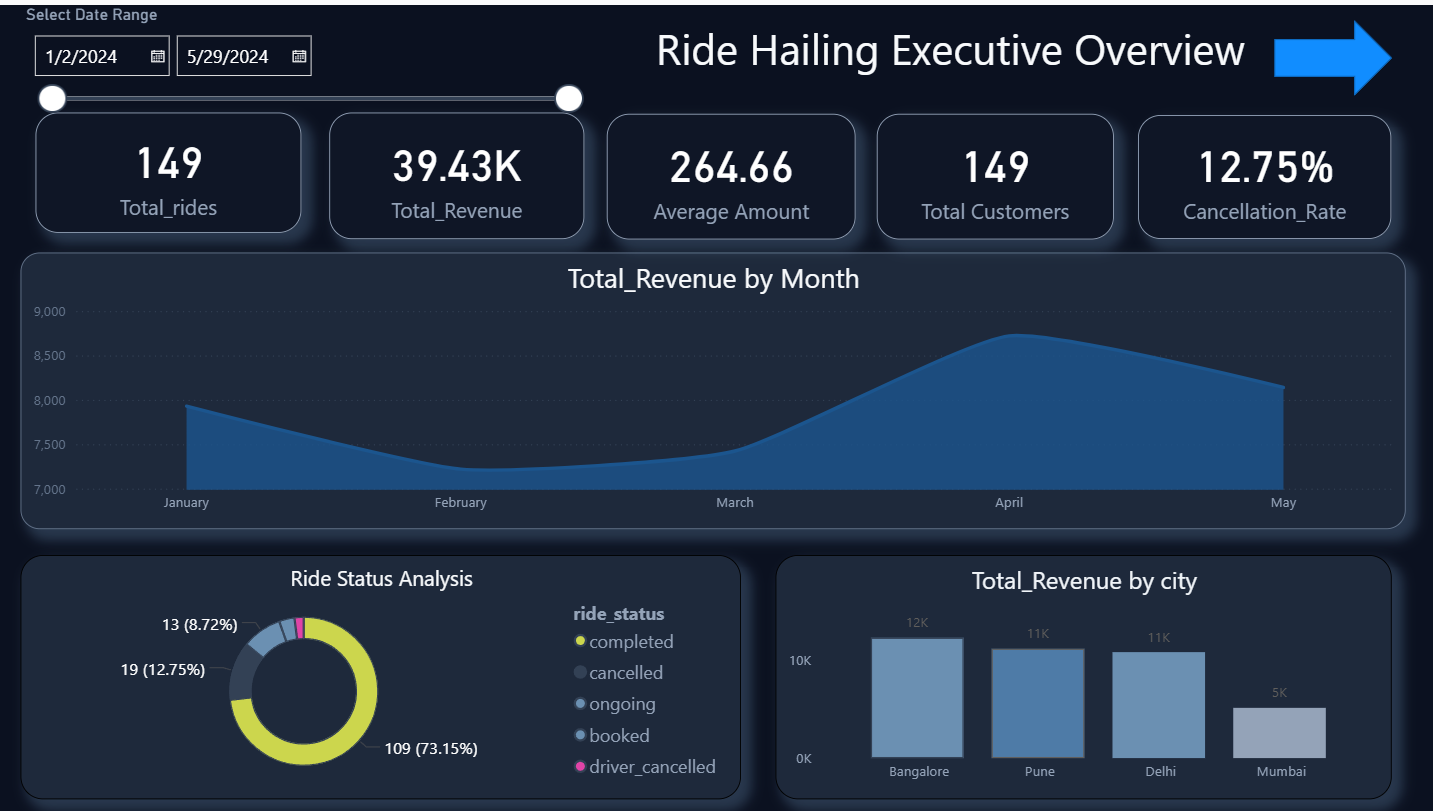

This screenshot's page, from the dashboard's own definition file:
{"tool":"powerbi","page":{"name":"Ride_Hailing-Executive_Overview","canvas":[1280,720],"ordinal":0},"visuals":[{"type":"card","fields":{"Values":["CountNonNull(cab_rides_final.ride_id)"]},"box":[33.6,95.5,236.7,107.6],"z":0},{"type":"card","fields":{"Values":["cab_rides_final.Total_Revenue"]},"box":[294.5,95.5,227.3,113],"z":1000},{"type":"card","fields":{"Values":["cab_rides_final.Cancellation_Rate"]},"box":[1015.3,98.2,225.9,110.3],"z":2000},{"type":"lineChart","fields":{"Y":["cab_rides_final.Total_Revenue"],"Category":["cab_rides_final.payment_date.Variation.Date Hierarchy.Month","cab_rides_final.payment_date.Variation.Date Hierarchy.Day"]},"box":[20.2,220.6,1233.2,246.1],"z":3000},{"type":"columnChart","fields":{"Category":["cab_rides_final.city"],"Y":["cab_rides_final.Total_Revenue"]},"box":[692.6,489.5,548.7,217.9],"z":4000},{"type":"donutChart","title":"Ride Status Analysis","fields":{"Category":["cab_rides_final.ride_status"],"Y":["CountNonNull(cab_rides_final.ride_id)"]},"box":[20.2,489.5,641.5,217.9],"z":5000},{"type":"card","fields":{"Values":["Avg(cab_rides_final.amount)"]},"box":[542,96.8,221.9,111.6],"z":6000},{"type":"card","fields":{"Values":["CountNonNull(cab_rides_final.customer_id)"]},"box":[782.7,96.8,211.1,111.6],"z":7000},{"type":"slicer","title":"Select Date Range","fields":{"Values":["cab_rides_final.payment_date"]},"box":[19.6,0,509.5,111],"z":8000},{"type":"textbox","box":[581.5,8.4,555,72.4],"z":9000},{"type":"shape","box":[1136.5,13.3,105,67.6],"z":10000}]}

Visuals, with their boxes in screenshot pixels (x1, y1, x2, y2), scaled from the page's 1280x720 canvas onto the 1433x811 screenshot:
card - CountNonNull(cab_rides_final.ride_id): rect(38, 108, 303, 229)
card - cab_rides_final.Total_Revenue: rect(330, 108, 584, 235)
card - cab_rides_final.Cancellation_Rate: rect(1137, 111, 1390, 235)
lineChart - cab_rides_final.Total_Revenue x cab_rides_final.payment_date.Variation.Date Hierarchy.Month: rect(23, 248, 1403, 526)
columnChart - cab_rides_final.city x cab_rides_final.Total_Revenue: rect(775, 551, 1390, 797)
"Ride Status Analysis" donutChart: rect(23, 551, 741, 797)
card - Avg(cab_rides_final.amount): rect(607, 109, 855, 235)
card - CountNonNull(cab_rides_final.customer_id): rect(876, 109, 1113, 235)
"Select Date Range" slicer: rect(22, 0, 592, 125)
textbox: rect(651, 9, 1272, 91)
shape: rect(1272, 15, 1390, 91)
